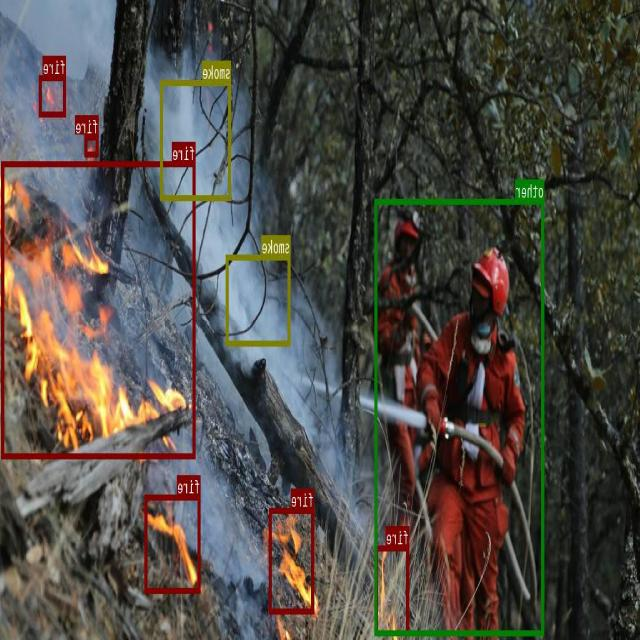fire: (2, 160, 196, 457), (146, 493, 202, 592), (270, 507, 315, 613), (376, 544, 410, 634), (40, 74, 66, 116), (86, 134, 100, 156)
other: (375, 198, 545, 634)
smoke: (161, 79, 232, 199), (227, 254, 291, 345)
